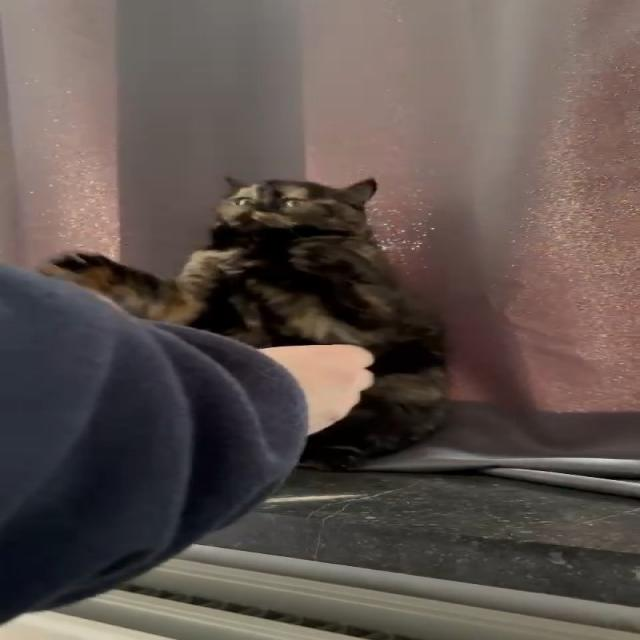authorized: (36, 174, 451, 471)
